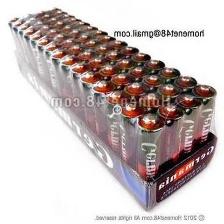battery: (131, 111, 166, 191), (154, 101, 186, 184), (173, 91, 203, 171), (188, 82, 218, 157), (103, 89, 132, 166), (119, 101, 145, 182), (137, 91, 166, 162), (91, 79, 119, 150), (155, 80, 183, 150), (79, 69, 106, 138), (68, 62, 95, 127), (95, 63, 120, 126), (172, 72, 198, 131), (47, 48, 73, 103), (156, 63, 182, 117), (58, 55, 81, 114), (128, 64, 151, 118), (108, 36, 129, 95), (35, 37, 58, 87), (85, 55, 107, 107), (140, 72, 164, 119), (111, 56, 136, 101), (112, 71, 134, 122), (42, 43, 63, 96), (67, 43, 88, 96), (140, 56, 165, 100), (84, 38, 106, 87), (104, 49, 125, 98), (79, 50, 99, 101), (118, 45, 142, 87), (32, 17, 48, 79), (96, 41, 112, 102), (126, 80, 146, 126), (47, 5, 63, 62), (28, 32, 47, 79), (58, 37, 75, 89), (44, 27, 62, 75), (62, 16, 79, 66), (101, 32, 117, 85), (52, 30, 68, 83), (55, 11, 71, 64), (81, 22, 99, 69), (22, 12, 40, 59), (128, 52, 152, 87), (91, 27, 108, 76), (65, 26, 86, 65), (35, 10, 52, 58), (23, 27, 39, 75), (76, 32, 92, 80), (12, 17, 29, 61), (39, 22, 54, 69), (51, 19, 68, 60), (19, 21, 32, 66)
